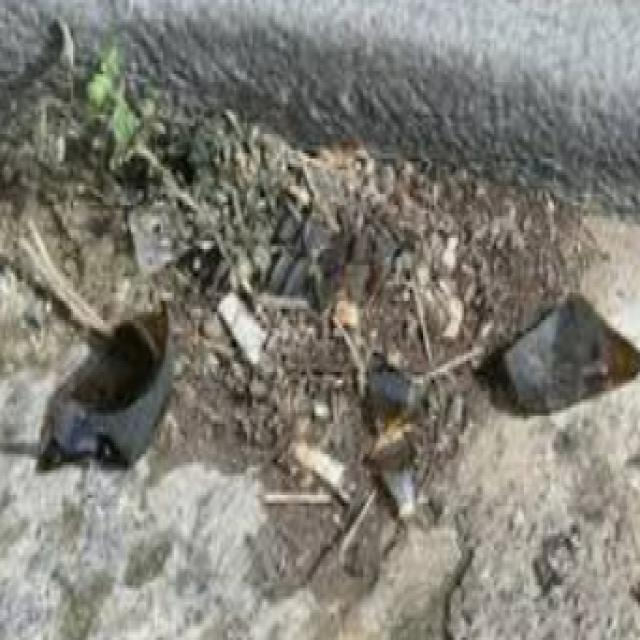PecahanKaca: (36, 296, 174, 474), (496, 287, 638, 416)
